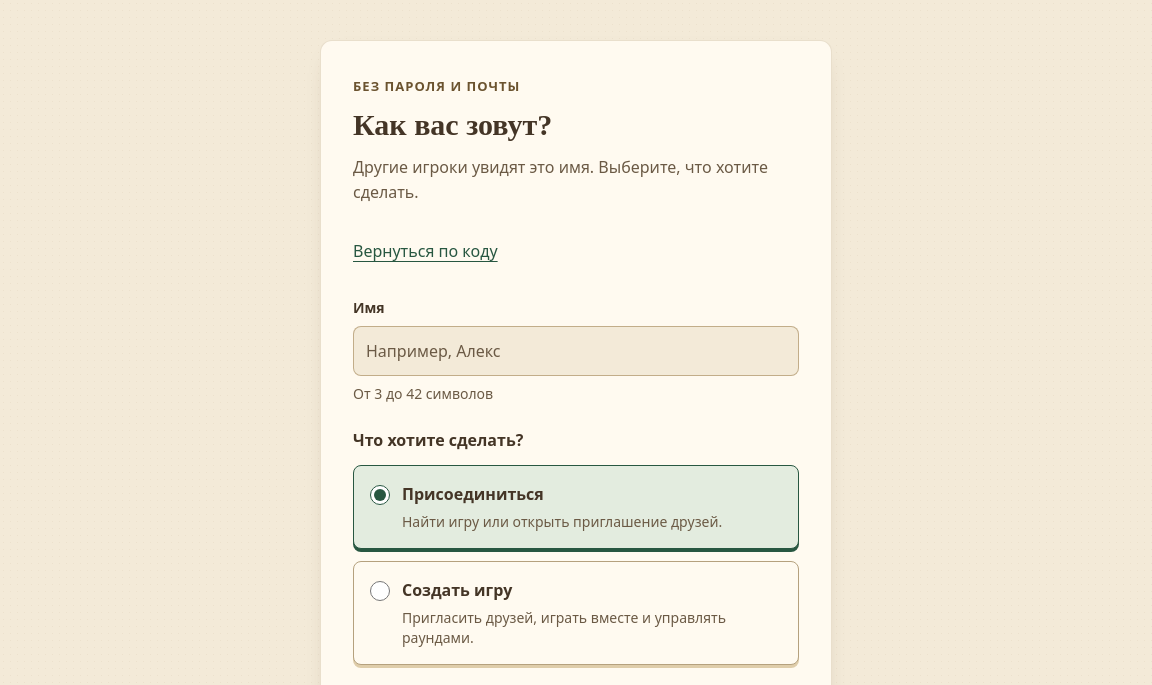
Test: Register › shows local validation for too-short nickname
The image size is (1152, 685).
Type "ab" into the field labelled "Имя" at x=576, y=351, box [353,326,799,376]
(page scrolled)
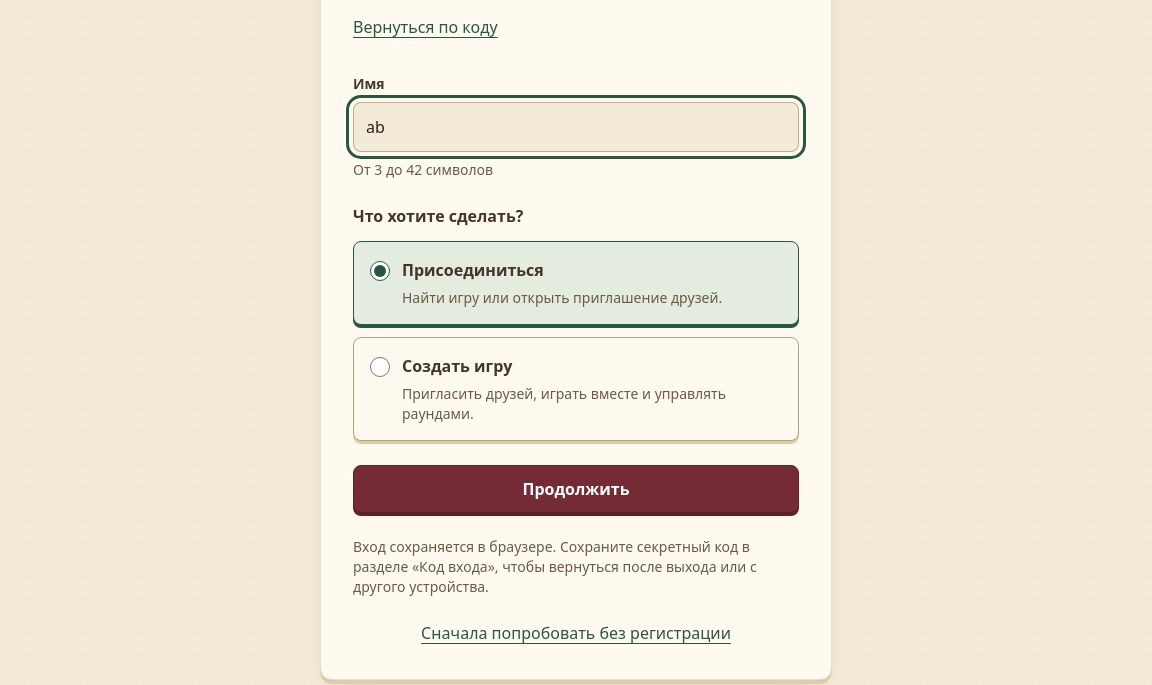
Click the button "Продолжить" at x=576, y=489, box [353,465,799,513]
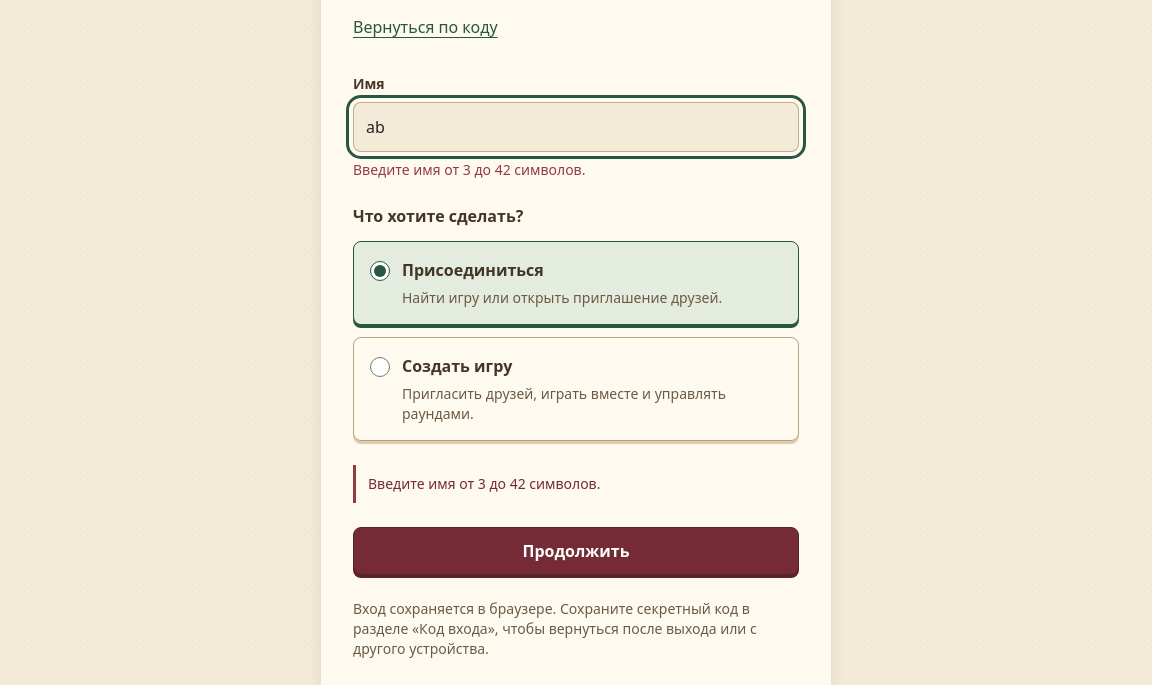
Now the message shows "3", box [368,474,600,493]
